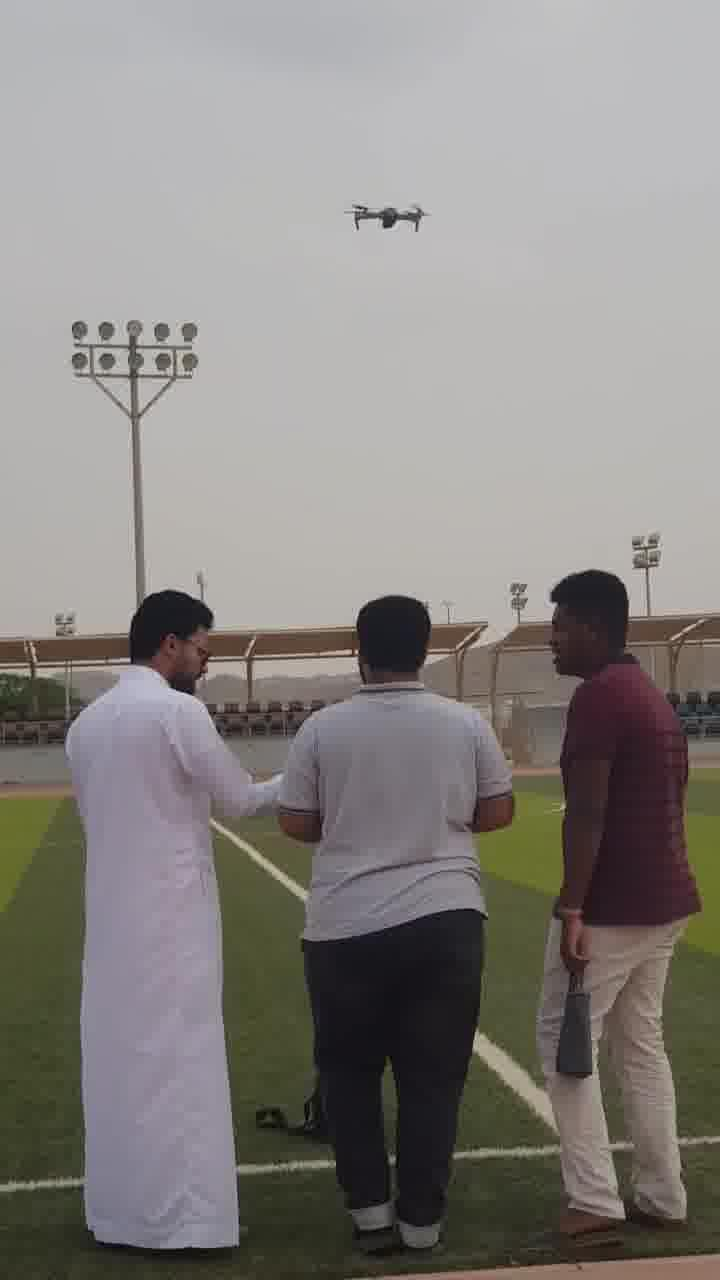drone: (342, 196, 437, 233)
